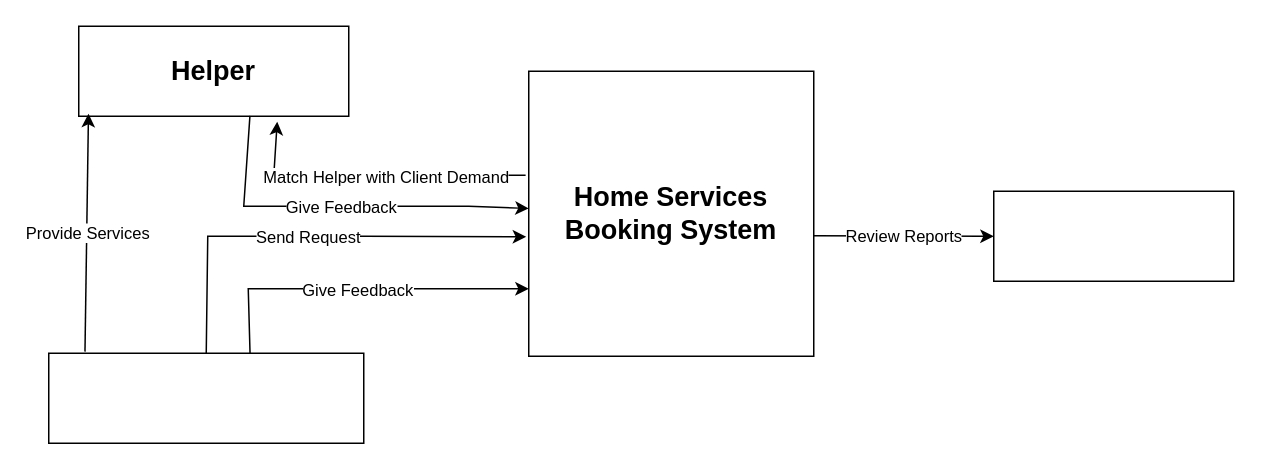
This 1262x470 diagram has some shape labels left out. Each missing label, with the centre of its shape:
Admin: [1113,235]
Client: [205,397]
